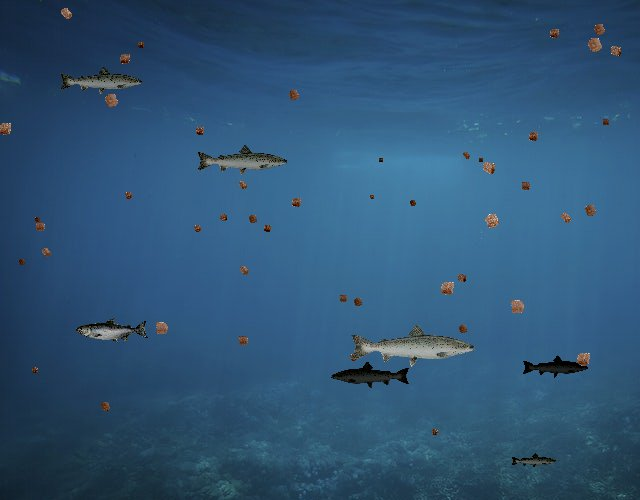Fish: (348, 322, 477, 368), (196, 143, 290, 177), (58, 65, 144, 96), (331, 360, 412, 389), (77, 317, 150, 343), (522, 354, 590, 378), (510, 452, 557, 469)
Pellet: (433, 274, 462, 303), (569, 346, 597, 374), (475, 155, 502, 182), (54, 1, 79, 26), (578, 198, 602, 222), (286, 192, 307, 213), (28, 363, 42, 377)
